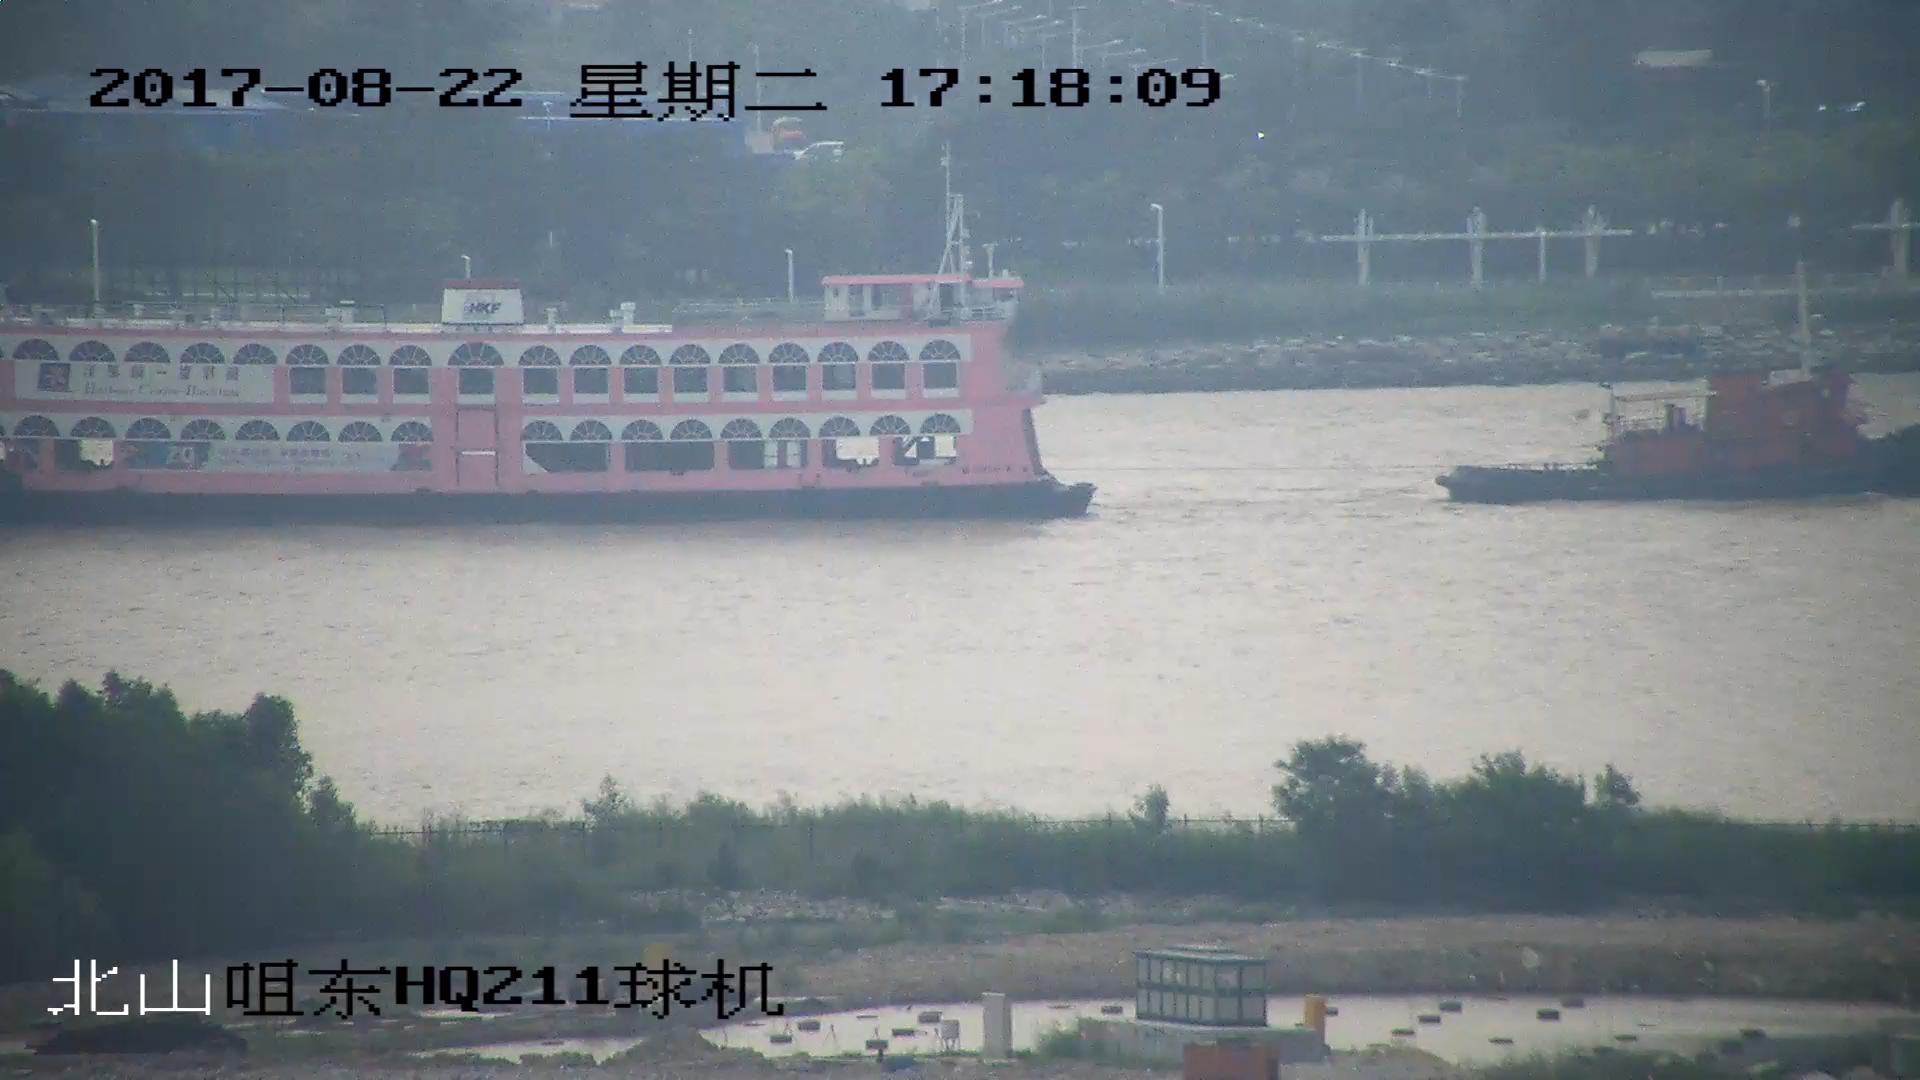fishing boat: (1436, 273, 1920, 499)
passenger ship: (1, 148, 1098, 523)
